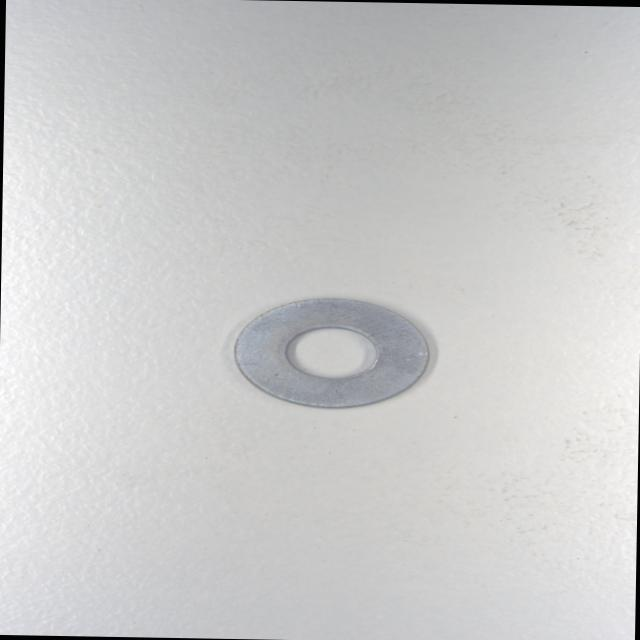washer: (230, 294, 432, 409)
